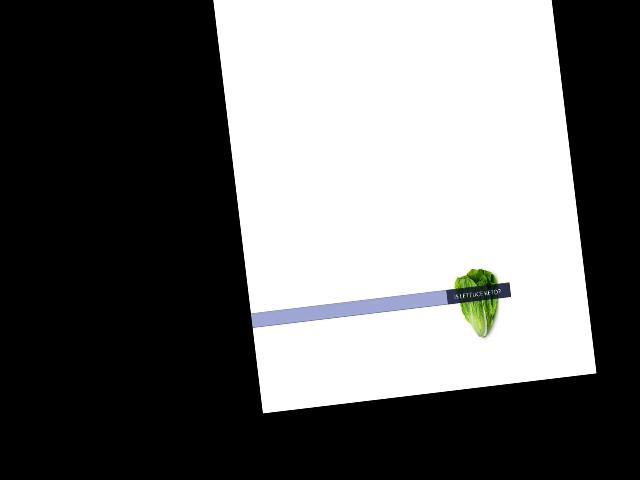lettuce: (451, 266, 508, 346)
